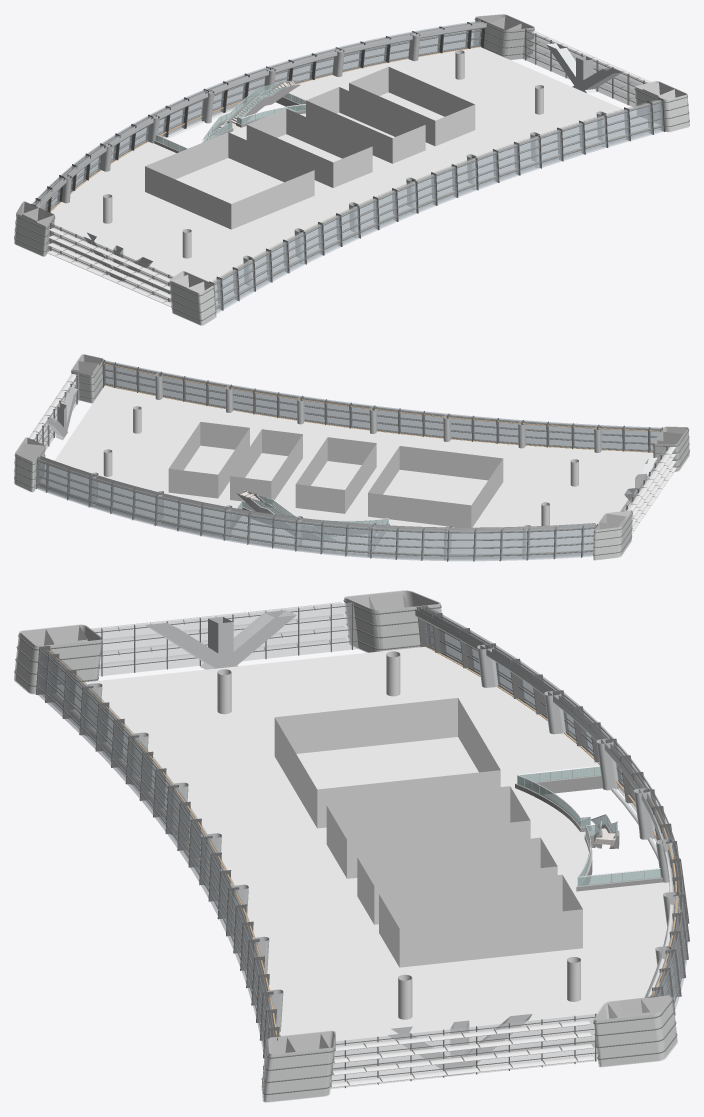
3 renders of one model, top to bottom at view 1: azimuth 30°, elevation 25°; view 2: azimuth 150°, elevation 25°; view 3: azimuth 270°, elevation 25°, orthographic. The views are drawn at different scales.
Parts seen in each view (by area): view 1: floor.061; view 2: floor.061; view 3: floor.061.
Part boxes in pixels (x1,y1,x2,y2): floor.061: (14,14,689,325); floor.061: (14,354,689,561); floor.061: (14,590,689,1102).
Size of the model in its own units: 81.5 by 4.75 by 49.96.
18 materials, 1 textured.
